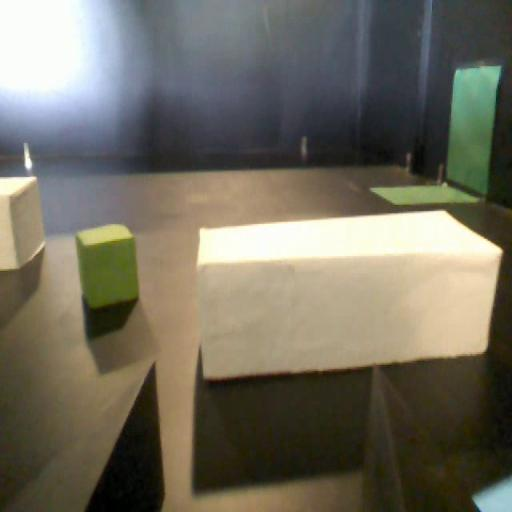cube: (70, 227, 142, 312)
